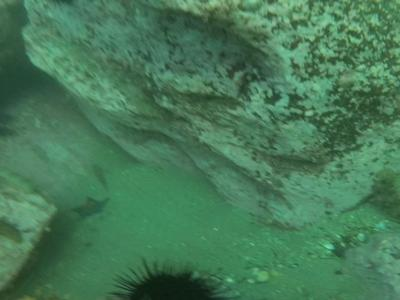urchin: (103, 257, 228, 295)
